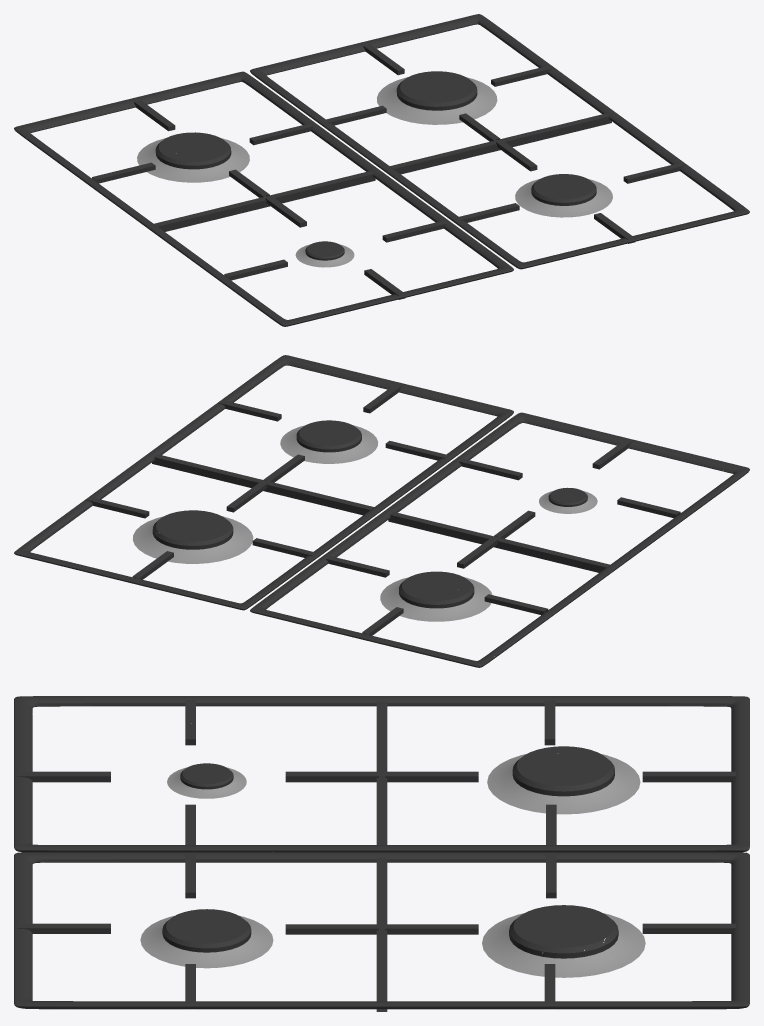
Rendered from Hob.fbx.
The picture shows the model from 3 angles, top to bottom: view 1: azimuth 30°, elevation 25°; view 2: azimuth 150°, elevation 25°; view 3: azimuth 270°, elevation 25°; orthographic projection. The views are drawn at different scales.
Visible parts, largest first — view 1: Hob; view 2: Hob; view 3: Hob.
Part boxes in pixels (x1,y1,x2,y2): Hob: (14, 14, 749, 326); Hob: (14, 355, 749, 667); Hob: (14, 696, 749, 1011).
Bounding box in the file's own units: 80.2 × 2.05 × 80.42.
1 material, 1 textured.
